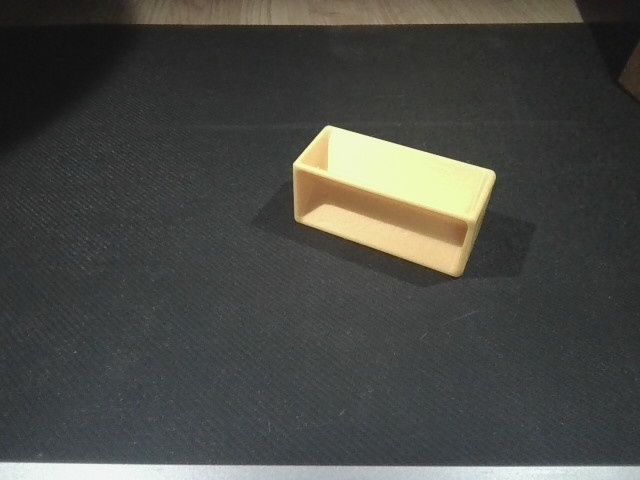YellowSample: (286, 121, 502, 282)
